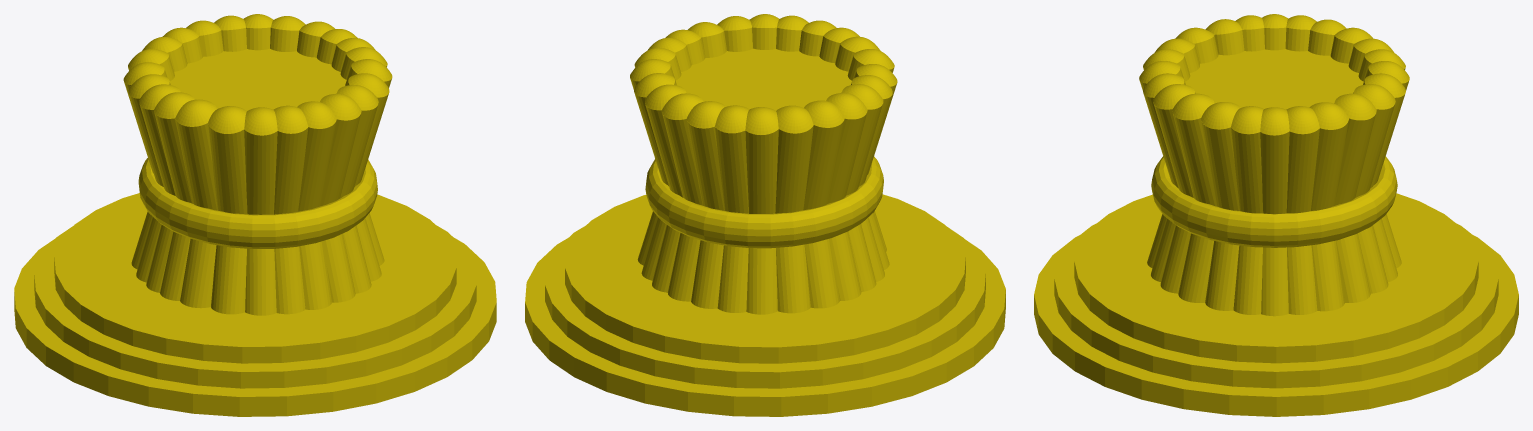
Rendered from harbor_wheet.glb.
3 renders of one model, left to right at view 1: azimuth 30°, elevation 25°; view 2: azimuth 150°, elevation 25°; view 3: azimuth 270°, elevation 25°, orthographic.
Parts seen in each view (by area): view 1: harbor_wheet; view 2: harbor_wheet; view 3: harbor_wheet.
Boxes of the visible parts, x1,y1,x2,y2 form: harbor_wheet: (14, 14, 496, 416); harbor_wheet: (525, 14, 1005, 416); harbor_wheet: (1034, 14, 1518, 416).
Bounding box in the file's own units: 12 × 6.9 × 12.
